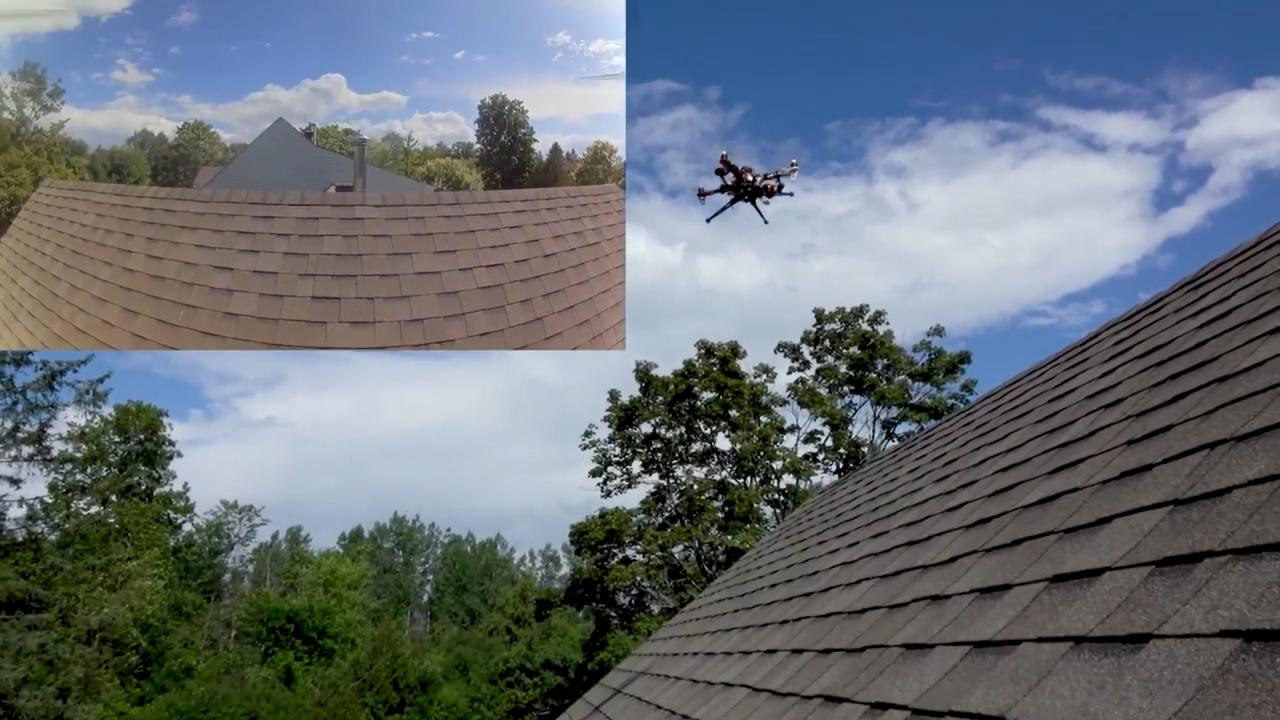Drone: (682, 140, 812, 239)
